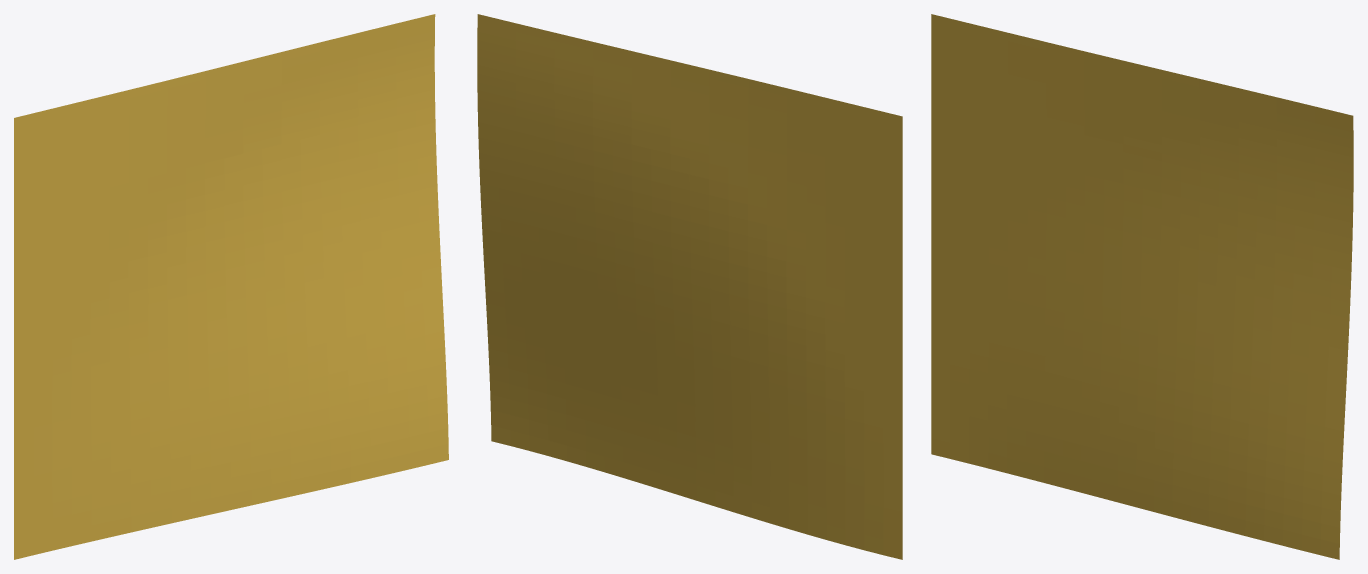
The model's file is stickynote yellow.fbx.
3 renders of one model, left to right at view 1: azimuth 30°, elevation 25°; view 2: azimuth 150°, elevation 25°; view 3: azimuth 330°, elevation 25°, orthographic.
Parts seen in each view (by area): view 1: stickynote; view 2: stickynote; view 3: stickynote.
Part boxes in pixels (left/top/right/bottom): stickynote: left=14, top=14, right=448, bottom=559; stickynote: left=477, top=14, right=902, bottom=559; stickynote: left=931, top=14, right=1353, bottom=559.
Bounding box in the file's own units: 51.5 × 51.5 × 2.99.
